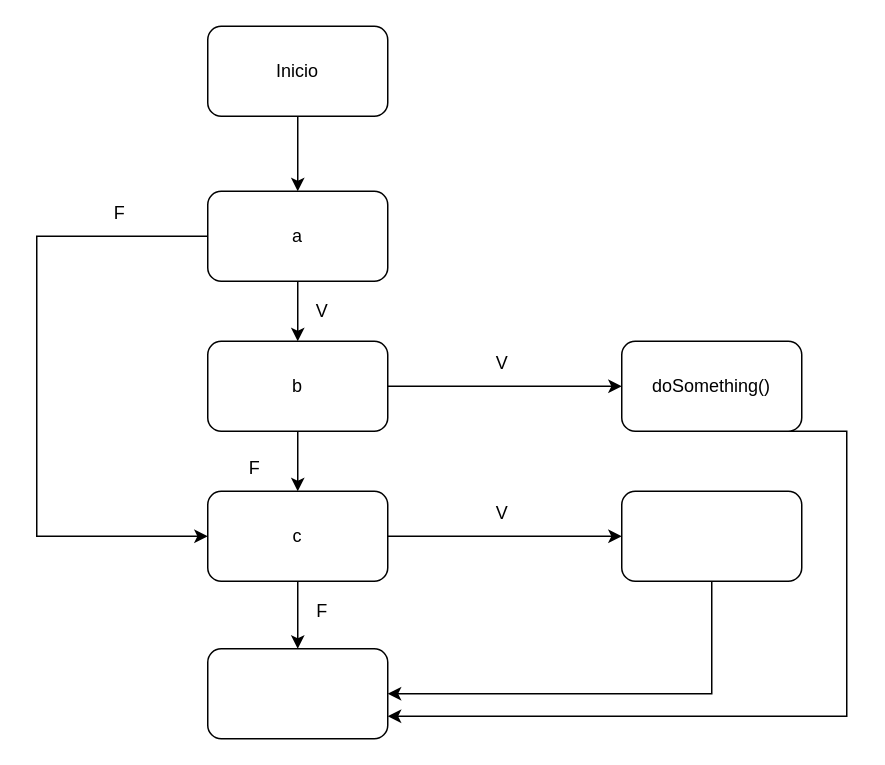
Some shapes in this 885 by 765 pixel diagram are drawn without their labels. Each missing label, with the centre of its shape:
doSthElse(): pixel 711 535
Final: pixel 297 693
